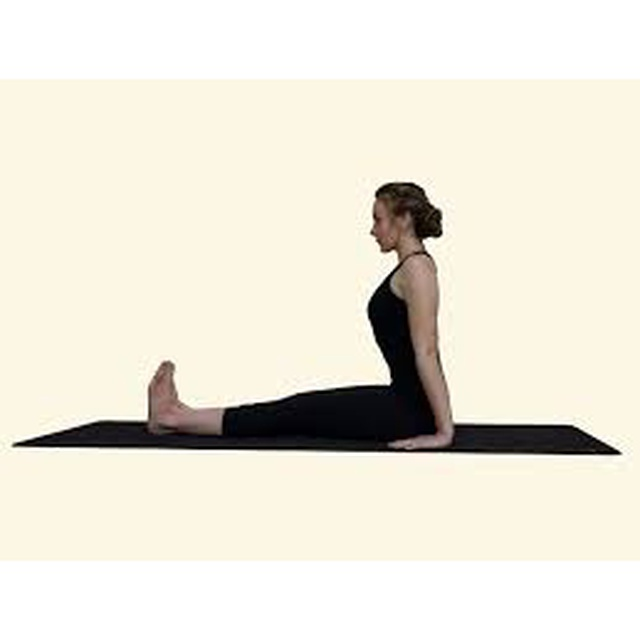Staff_Pose: (146, 180, 455, 451)
